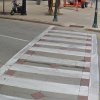crosswalk: (0, 30, 95, 99)
